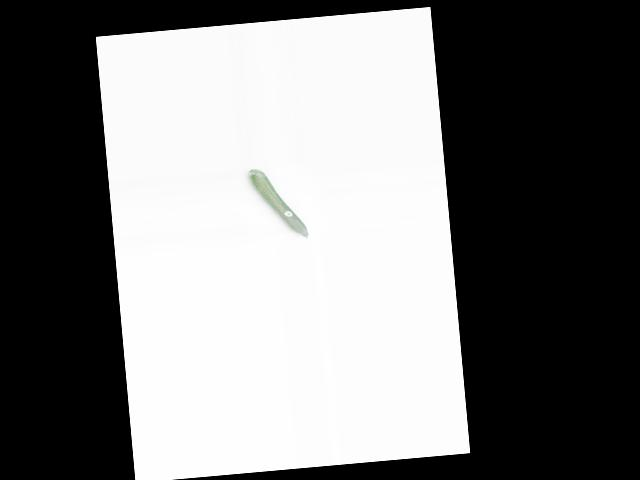cucumber: (248, 165, 308, 243)
